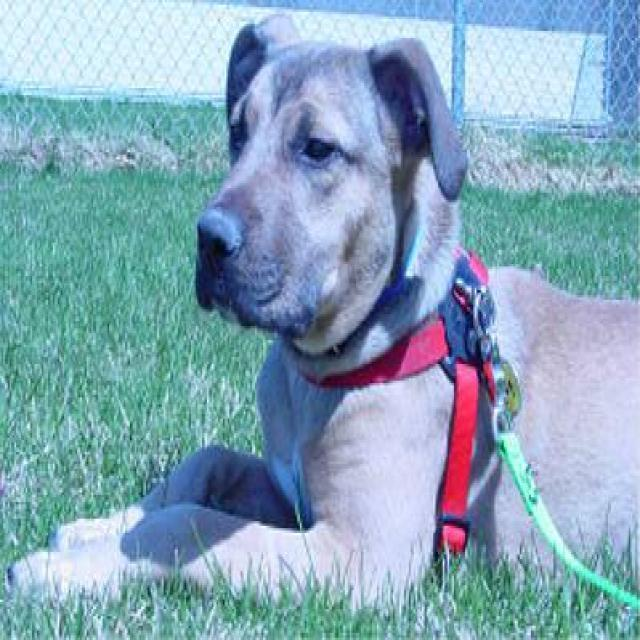dogs: (24, 12, 640, 640)
